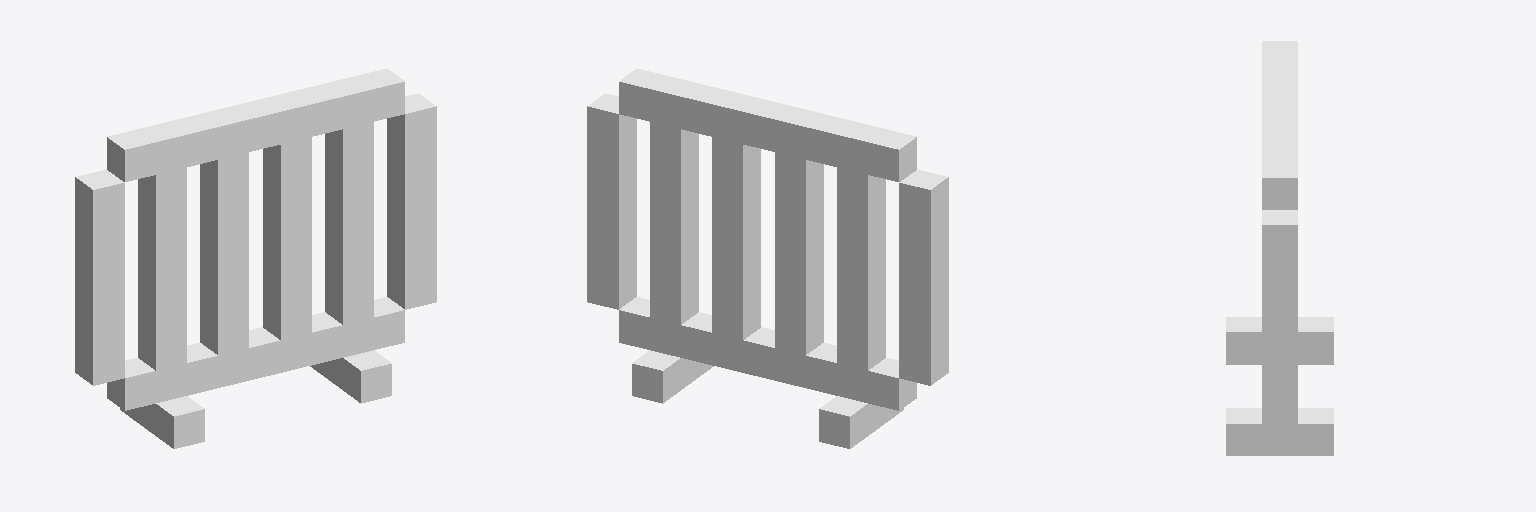
Rendered from Obstacle1.obj.
3 views of the same model, side by side, from view 1: azimuth 30°, elevation 25°; view 2: azimuth 150°, elevation 25°; view 3: azimuth 270°, elevation 25° (orthographic).
Size of the model in its own units: 11 by 9 by 3.